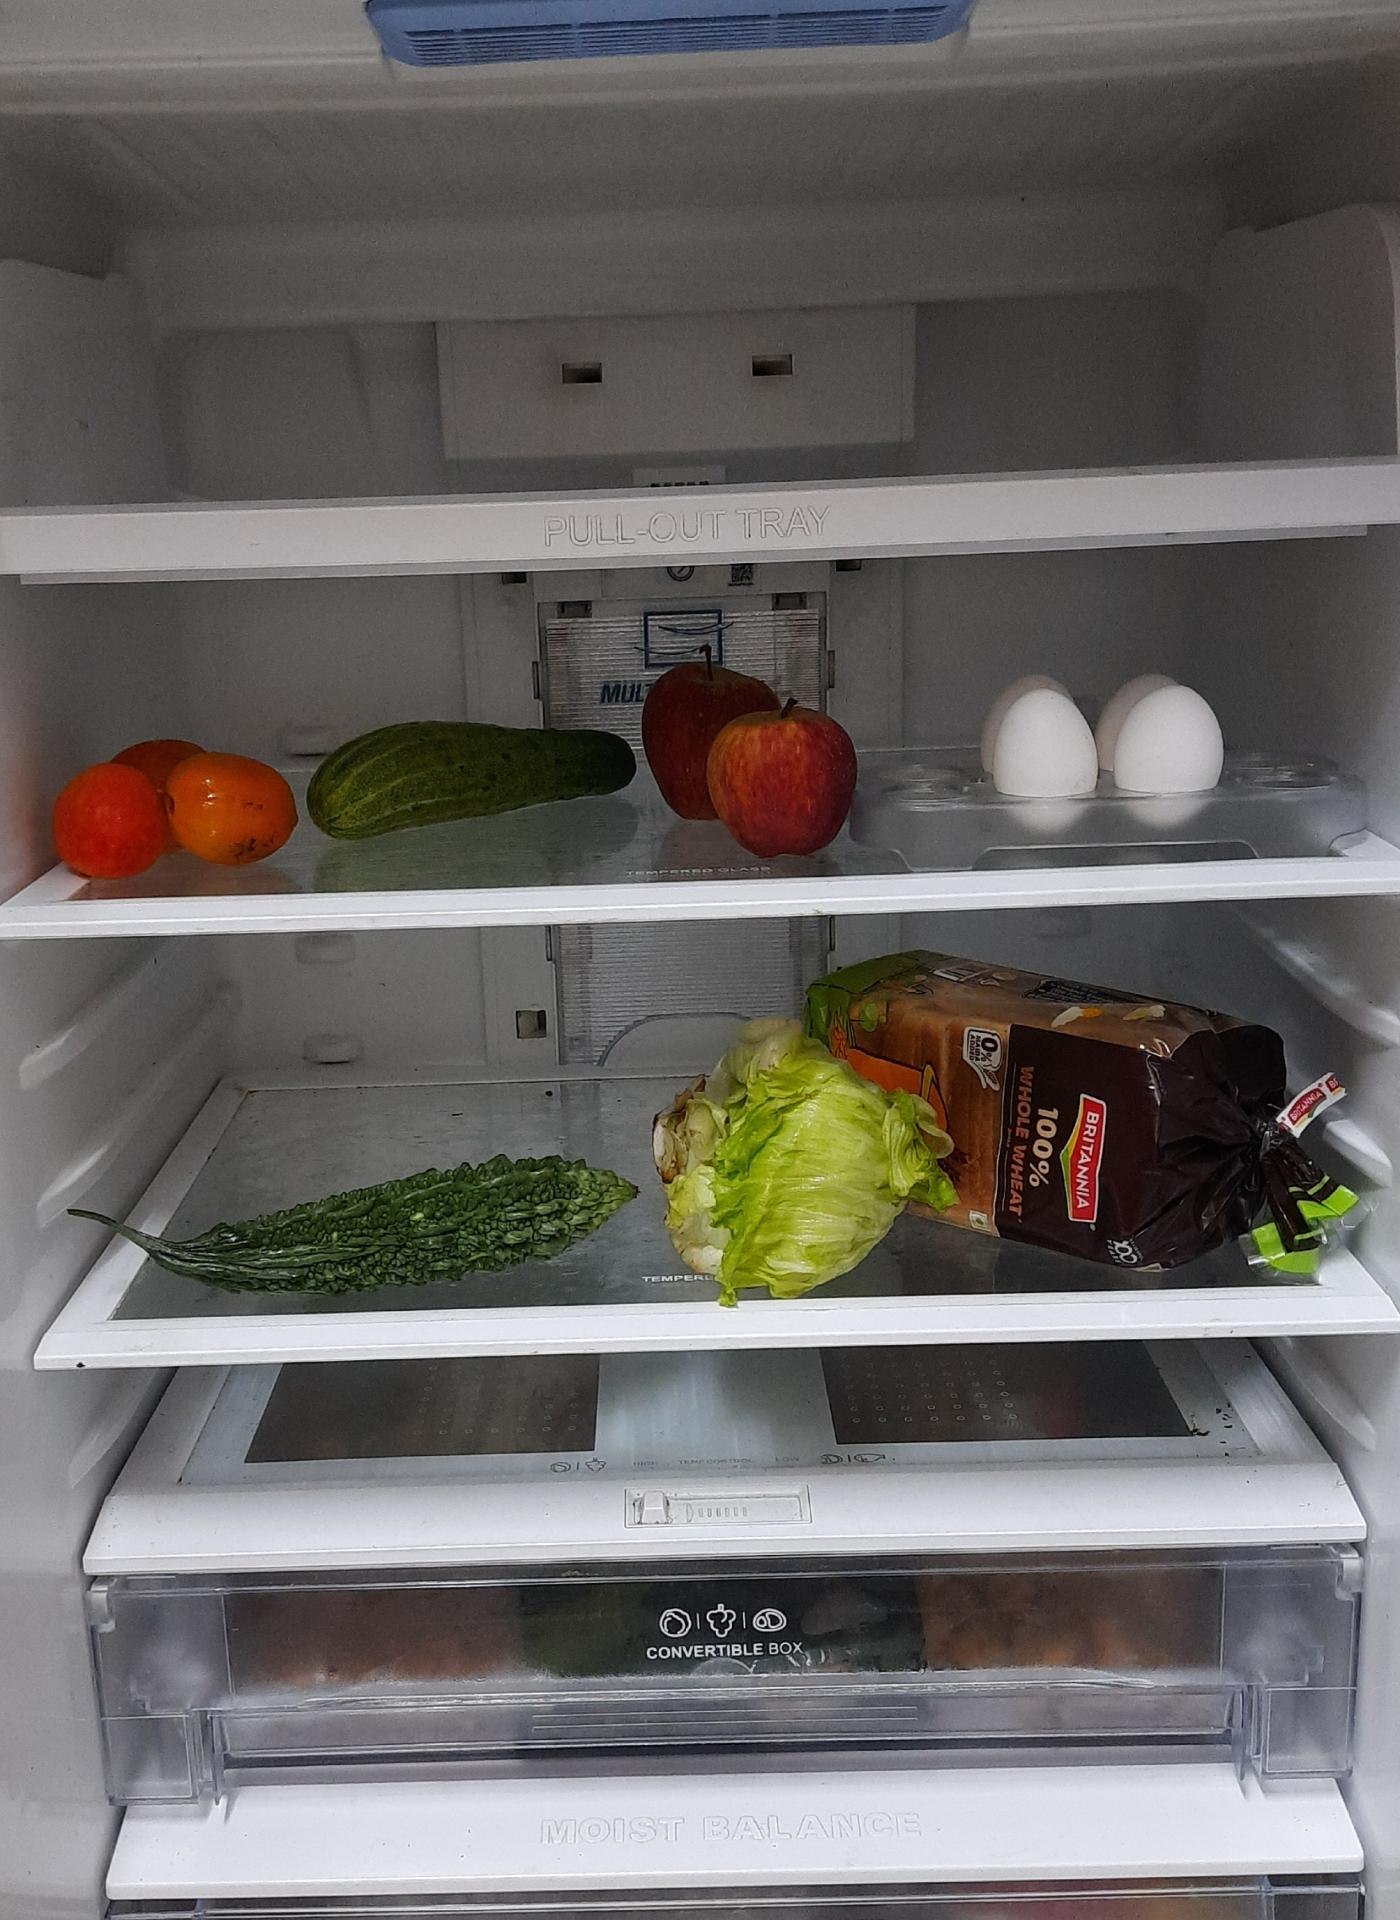apple: (643, 669, 860, 862)
bitter gourd: (92, 1149, 653, 1294)
bread: (810, 963, 1337, 1269)
cucumber: (309, 720, 635, 835)
egg: (986, 671, 1232, 833)
lettuce: (655, 1029, 941, 1295)
tomato: (57, 744, 304, 882)
